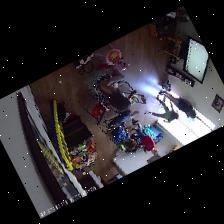person: (97, 65, 129, 110), (105, 109, 137, 149), (160, 90, 195, 118), (144, 95, 177, 122), (132, 123, 157, 154)
